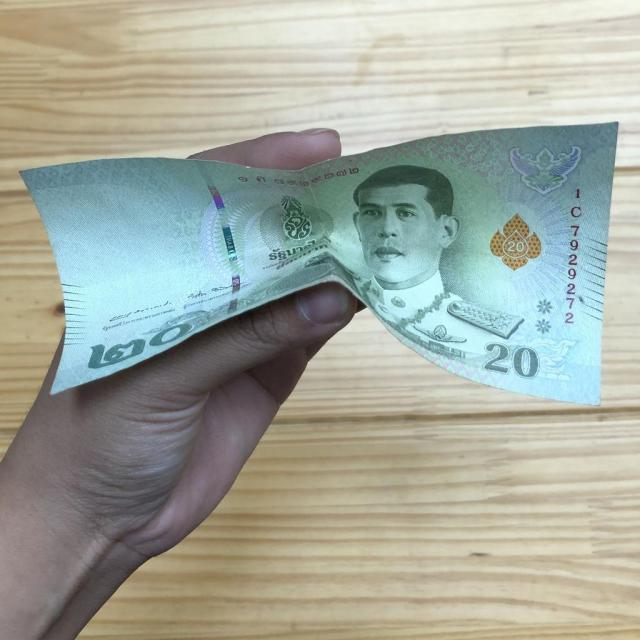THAI20: (21, 123, 617, 404)
